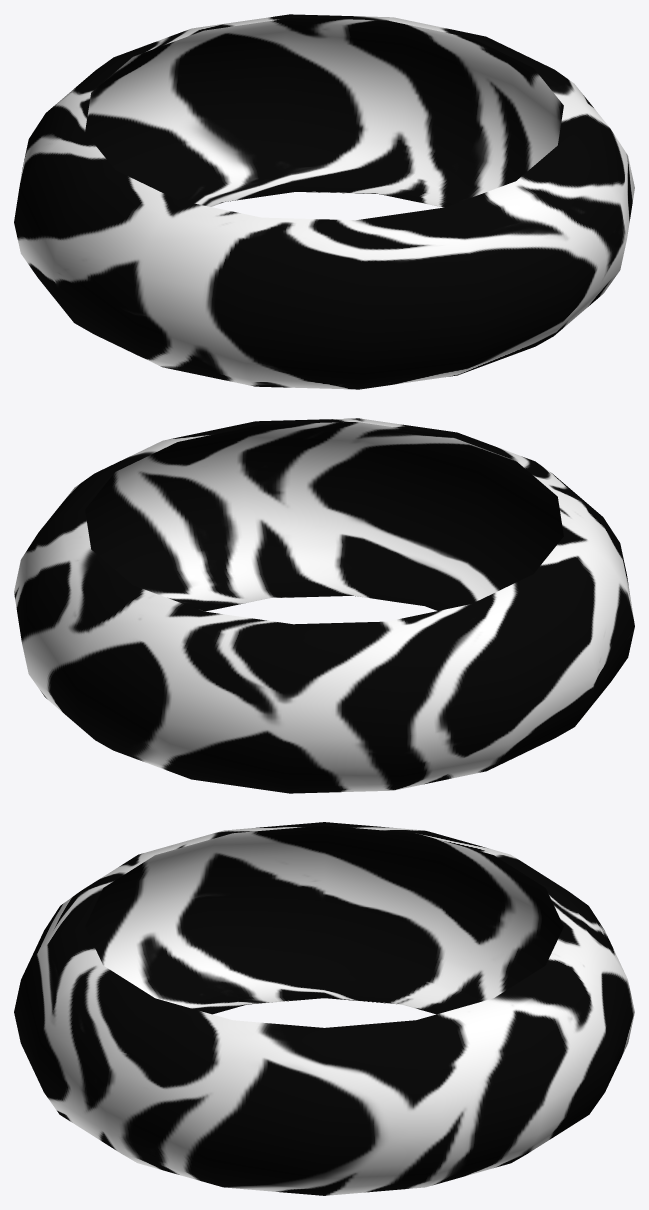
The model's file is hasaki.fbx.
3 renders of one model, top to bottom at view 1: azimuth 30°, elevation 25°; view 2: azimuth 150°, elevation 25°; view 3: azimuth 270°, elevation 25°, orthographic.
Parts seen in each view (by area): view 1: Torus; view 2: Torus; view 3: Torus.
Part boxes in pixels (x1,y1,x2,y2): Torus: (14, 14, 634, 389); Torus: (14, 418, 634, 793); Torus: (14, 822, 634, 1195).
Size of the model in its own units: 260 by 75.12 by 260.
